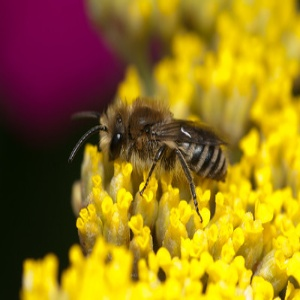bee: (67, 94, 232, 227)
